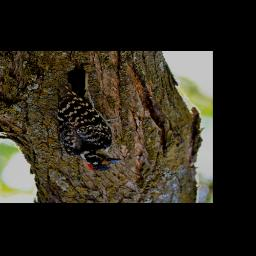Woodpecker: (61, 61, 121, 173)
